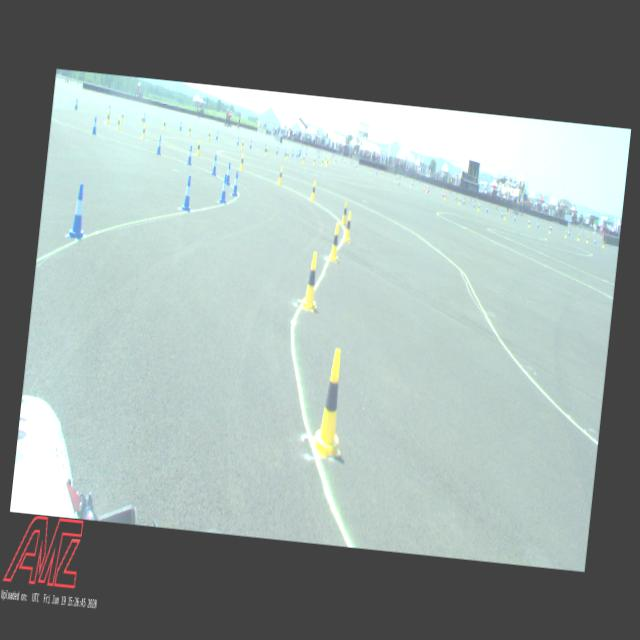blue_cone: (68, 182, 90, 238), (182, 175, 194, 211), (218, 173, 228, 204), (232, 170, 240, 196), (211, 154, 218, 175), (226, 162, 232, 184), (91, 116, 98, 134), (187, 146, 193, 164), (156, 136, 162, 154), (75, 98, 78, 109), (179, 121, 182, 130), (216, 130, 218, 140), (237, 136, 239, 146), (250, 140, 252, 149), (144, 112, 146, 121), (276, 146, 278, 154), (296, 150, 298, 158), (284, 148, 286, 156), (292, 149, 294, 157), (264, 144, 266, 152), (536, 220, 538, 227), (472, 201, 474, 208), (500, 210, 502, 217), (568, 229, 570, 236), (486, 205, 488, 212), (527, 217, 529, 224), (514, 213, 516, 220), (462, 197, 464, 204), (594, 237, 596, 243)
yellow_cone: (310, 348, 350, 458), (300, 252, 322, 312), (328, 222, 341, 262), (343, 211, 353, 243), (341, 200, 348, 225), (310, 180, 316, 200), (278, 167, 284, 184), (239, 153, 244, 170), (106, 108, 110, 125), (196, 140, 200, 156), (116, 116, 120, 130), (142, 124, 146, 138), (120, 110, 124, 122), (140, 114, 144, 126), (162, 118, 165, 130), (302, 154, 305, 164), (576, 233, 580, 240), (240, 140, 243, 149), (207, 131, 210, 140), (286, 150, 288, 160), (188, 126, 190, 135), (266, 146, 268, 155), (602, 240, 604, 248), (313, 157, 315, 165), (321, 158, 323, 166), (504, 212, 506, 219), (477, 204, 479, 211), (528, 220, 530, 227), (586, 235, 588, 242), (458, 198, 460, 205), (564, 230, 566, 237), (548, 226, 550, 233), (444, 193, 446, 199)
